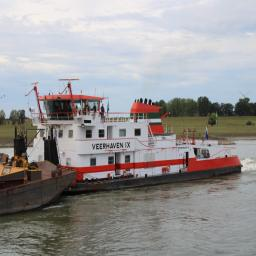tugboat: (13, 77, 245, 201)
